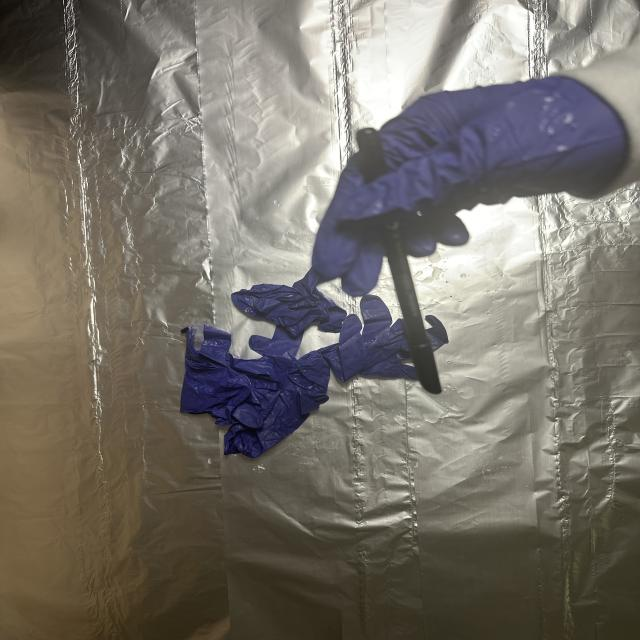gloves_contaminated: (312, 77, 630, 296)
